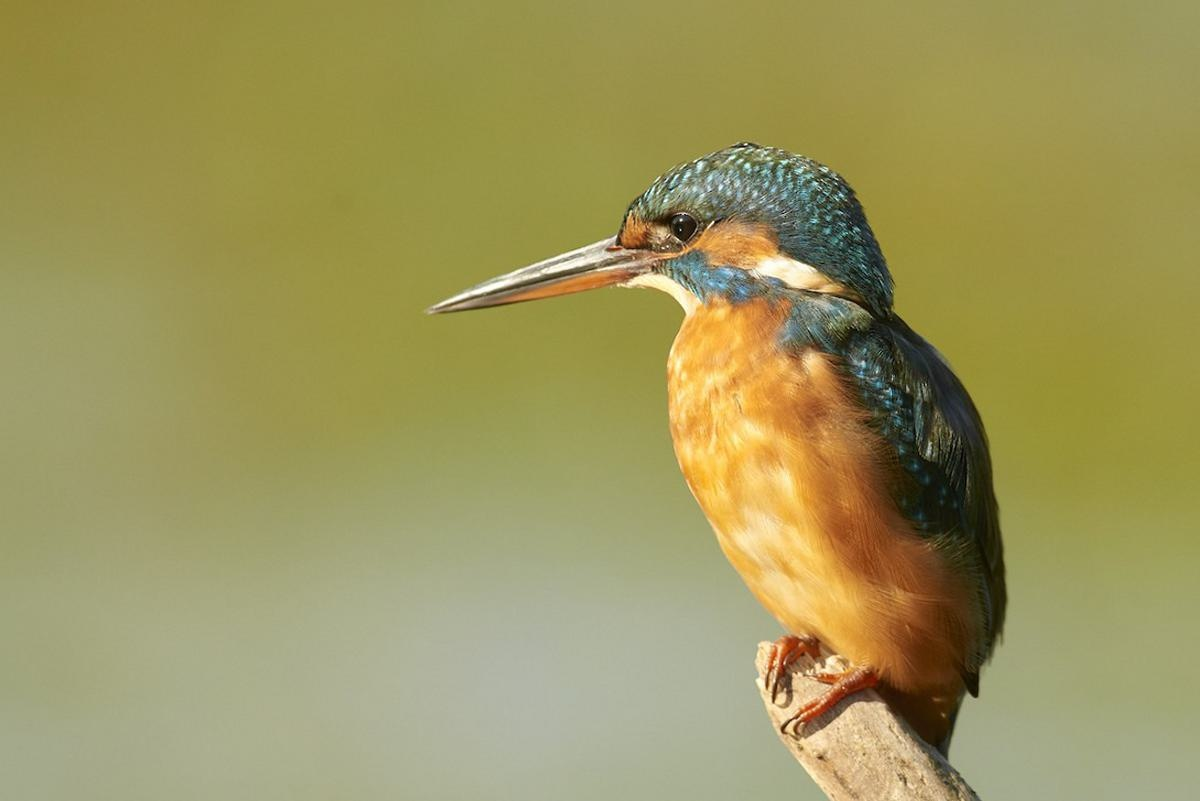kingfisher: (429, 133, 1026, 738)
